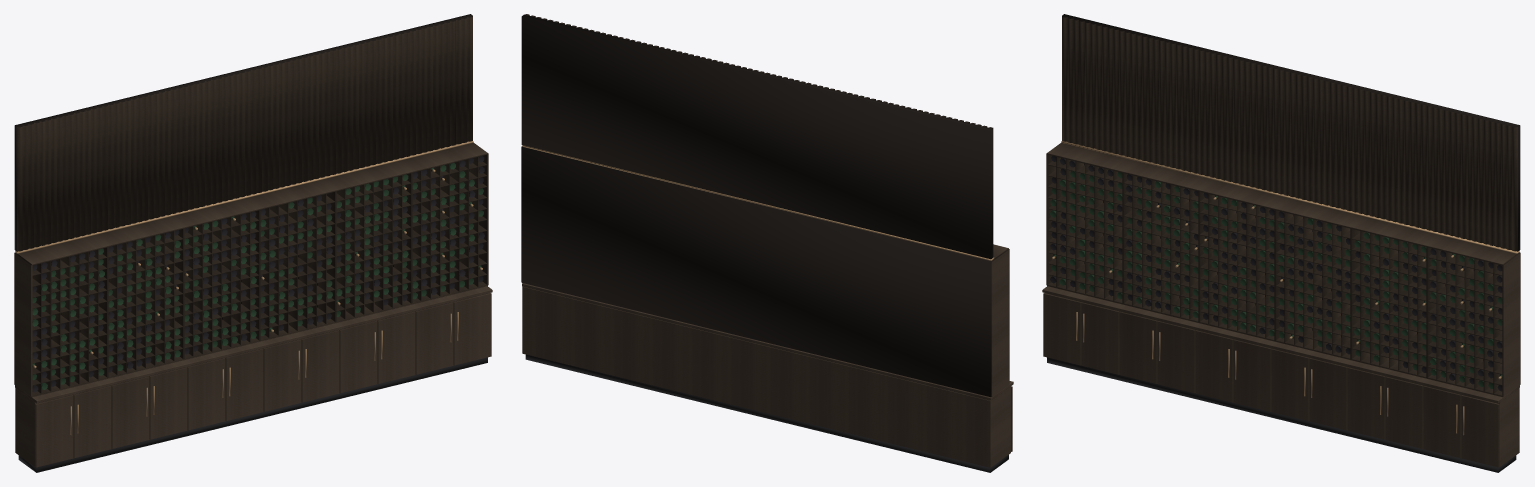
Rendered from dining_wine_rack_long.gltf.
3 renders of one model, left to right at view 1: azimuth 30°, elevation 25°; view 2: azimuth 150°, elevation 25°; view 3: azimuth 330°, elevation 25°, orthographic. The views are drawn at different scales.
Visible parts, largest first — view 1: DiningWineRackLong_Frame, DiningWineRackLong_CrownRibs, DiningWineRackLong_Doors, DiningWineRackLong_BottlesGreen, DiningWineRackLong_BottlesBlack, DiningWineRackLong_Worktop, DiningWineRackLong_Plinth, DiningWineRackLong_Crown, DiningWineRackLong_Cabinet, DiningWineRackLong_Reveal, DiningWineRackLong_Pulls; view 2: DiningWineRackLong_Backing, DiningWineRackLong_Crown, DiningWineRackLong_Cabinet, DiningWineRackLong_Frame, DiningWineRackLong_Plinth, DiningWineRackLong_Worktop, DiningWineRackLong_Reveal, DiningWineRackLong_CrownRibs; view 3: DiningWineRackLong_Frame, DiningWineRackLong_CrownRibs, DiningWineRackLong_Doors, DiningWineRackLong_BottlesGreen, DiningWineRackLong_BottlesBlack, DiningWineRackLong_Worktop, DiningWineRackLong_Plinth, DiningWineRackLong_Crown, DiningWineRackLong_Cabinet, DiningWineRackLong_Reveal, DiningWineRackLong_Pulls.
Part boxes in pixels (x1,y1,x2,y2): DiningWineRackLong_Frame: (14, 142, 488, 397); DiningWineRackLong_CrownRibs: (17, 17, 472, 251); DiningWineRackLong_Doors: (35, 293, 491, 467); DiningWineRackLong_BottlesGreen: (32, 163, 483, 389); DiningWineRackLong_BottlesBlack: (32, 156, 484, 392); DiningWineRackLong_Worktop: (15, 286, 492, 403); DiningWineRackLong_Plinth: (18, 357, 487, 472); DiningWineRackLong_Crown: (14, 14, 472, 251); DiningWineRackLong_Cabinet: (15, 293, 489, 466); DiningWineRackLong_Reveal: (15, 141, 473, 253); DiningWineRackLong_Pulls: (70, 312, 458, 435); DiningWineRackLong_Backing: (521, 147, 991, 397); DiningWineRackLong_Crown: (521, 14, 993, 259); DiningWineRackLong_Cabinet: (522, 286, 1010, 467); DiningWineRackLong_Frame: (521, 146, 1009, 397); DiningWineRackLong_Plinth: (525, 354, 1008, 472); DiningWineRackLong_Worktop: (522, 283, 1013, 400); DiningWineRackLong_Reveal: (522, 145, 994, 260); DiningWineRackLong_CrownRibs: (524, 14, 993, 128); DiningWineRackLong_Frame: (1046, 142, 1520, 397); DiningWineRackLong_CrownRibs: (1062, 17, 1517, 251); DiningWineRackLong_Doors: (1043, 293, 1499, 467); DiningWineRackLong_BottlesGreen: (1050, 171, 1502, 388); DiningWineRackLong_BottlesBlack: (1050, 156, 1502, 391); DiningWineRackLong_Worktop: (1042, 286, 1519, 403); DiningWineRackLong_Plinth: (1047, 357, 1516, 472); DiningWineRackLong_Crown: (1062, 14, 1520, 251); DiningWineRackLong_Cabinet: (1045, 293, 1519, 466); DiningWineRackLong_Reveal: (1061, 141, 1519, 253); DiningWineRackLong_Pulls: (1076, 312, 1464, 435).
Bounding box in the file's own units: 6.02 × 4.2 × 0.5041.
6 materials, 1 textured.
